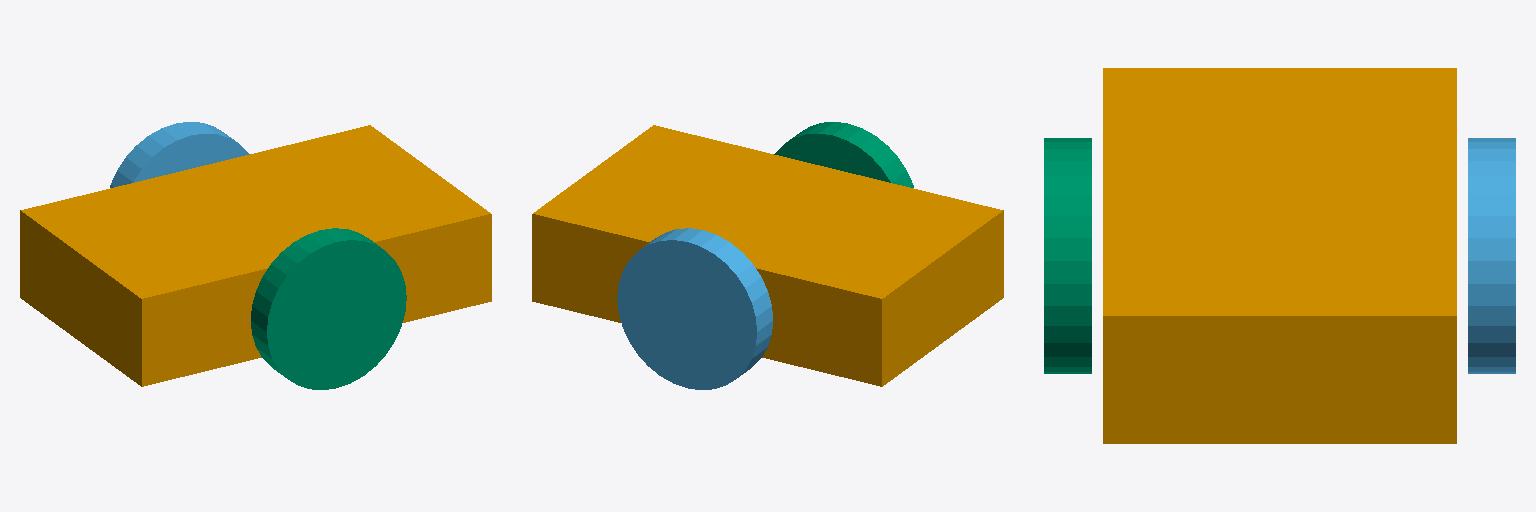
The robot description file, URDF, robot "two_wheels":
<?xml version="1.0"?>
<!-- The smallest robot Lagrange drives by /cmd_vel: a box on two wheels, with a ball at the front
     and the back, 5 mm off the ground so that the wheels carry the weight, to keep it level. The <ros2_control> block says which joints are driven: two
     wheel joints are its built-in drive. Sizes are illustrative. -->
<robot name="two_wheels">
  <link name="base_link">
    <inertial>
      <mass value="10"/>
      <inertia ixx="0.15" iyy="0.3" izz="0.4" ixy="0" ixz="0" iyz="0"/>
    </inertial>
    <visual><geometry><box size="0.5 0.3 0.12"/></geometry></visual>
    <collision><geometry><box size="0.5 0.3 0.12"/></geometry></collision>
    <collision><origin xyz="0.2 0 -0.06"/><geometry><sphere radius="0.035"/></geometry></collision>
    <collision><origin xyz="-0.2 0 -0.06"/><geometry><sphere radius="0.035"/></geometry></collision>
  </link>
  <gazebo reference="base_link"><mu1>0.05</mu1></gazebo>
  <link name="left_wheel">
    <inertial>
      <mass value="1"/>
      <inertia ixx="0.003" iyy="0.005" izz="0.003" ixy="0" ixz="0" iyz="0"/>
    </inertial>
    <visual><origin rpy="1.5708 0 0"/><geometry><cylinder radius="0.1" length="0.04"/></geometry></visual>
    <collision><origin rpy="1.5708 0 0"/><geometry><cylinder radius="0.1" length="0.04"/></geometry></collision>
  </link>
  <joint name="left_wheel_joint" type="continuous">
    <parent link="base_link"/>
    <child link="left_wheel"/>
    <origin xyz="0 0.18 0"/>
    <axis xyz="0 1 0"/>
    <limit effort="10" velocity="20"/>
  </joint>
  <link name="right_wheel">
    <inertial>
      <mass value="1"/>
      <inertia ixx="0.003" iyy="0.005" izz="0.003" ixy="0" ixz="0" iyz="0"/>
    </inertial>
    <visual><origin rpy="1.5708 0 0"/><geometry><cylinder radius="0.1" length="0.04"/></geometry></visual>
    <collision><origin rpy="1.5708 0 0"/><geometry><cylinder radius="0.1" length="0.04"/></geometry></collision>
  </link>
  <joint name="right_wheel_joint" type="continuous">
    <parent link="base_link"/>
    <child link="right_wheel"/>
    <origin xyz="0 -0.18 0"/>
    <axis xyz="0 1 0"/>
    <limit effort="10" velocity="20"/>
  </joint>
  <ros2_control name="wheels" type="system">
    <hardware><plugin>lagrange_ros2_control/LagrangeSystem</plugin></hardware>
    <joint name="left_wheel_joint"><command_interface name="velocity"/></joint>
    <joint name="right_wheel_joint"><command_interface name="velocity"/></joint>
  </ros2_control>
</robot>

--- What the picture shows (computed from the rendered views, not written in the file) ---
The picture shows the robot from 3 angles, left to right: view 1: azimuth 30°, elevation 25°; view 2: azimuth 150°, elevation 25°; view 3: azimuth 270°, elevation 25°; orthographic projection.
Model two_wheels with 3 links and 2 joints (2 continuous), rooted at base_link, posed every joint at zero.
Links seen in each view (by area): view 1: base_link, right_wheel, left_wheel; view 2: base_link, left_wheel, right_wheel; view 3: base_link, left_wheel, right_wheel.
Boxes of the visible links, x1,y1,x2,y2 form: base_link: [20, 125, 491, 386]; right_wheel: [251, 228, 406, 389]; left_wheel: [110, 122, 249, 187]; base_link: [532, 125, 1003, 386]; left_wheel: [617, 228, 772, 389]; right_wheel: [774, 122, 913, 187]; base_link: [1103, 68, 1456, 443]; left_wheel: [1468, 138, 1515, 373]; right_wheel: [1044, 138, 1091, 373].
Bounding box of the posed robot: 0.5 × 0.4 × 0.2 m (x, y, z).
Geometry: primitives only (box / cylinder / sphere), no mesh files.
